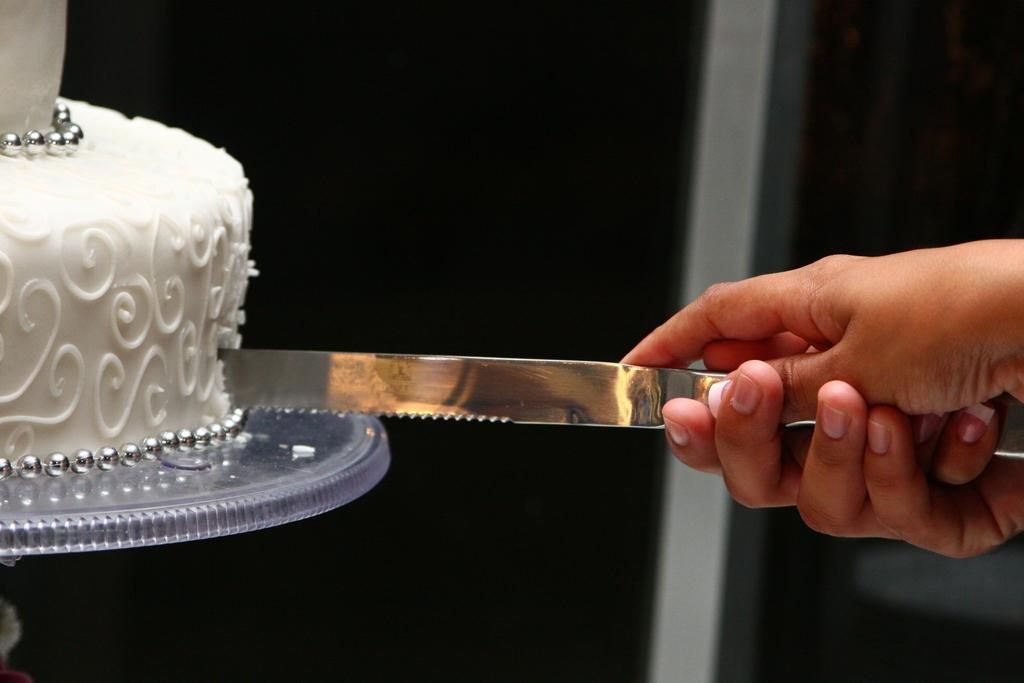Knife: (218, 344, 1023, 456)
